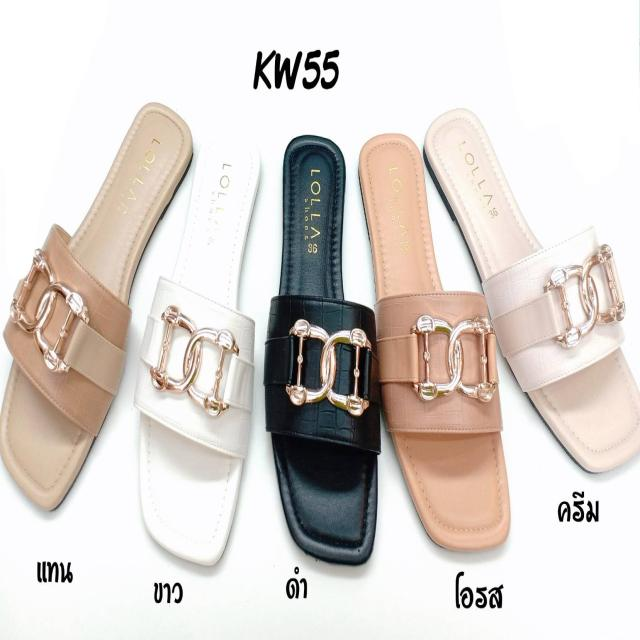black: (268, 140, 379, 561)
cream: (425, 109, 640, 474)
orot: (360, 130, 511, 555)
tan: (0, 104, 189, 510)
white: (137, 131, 262, 568)
